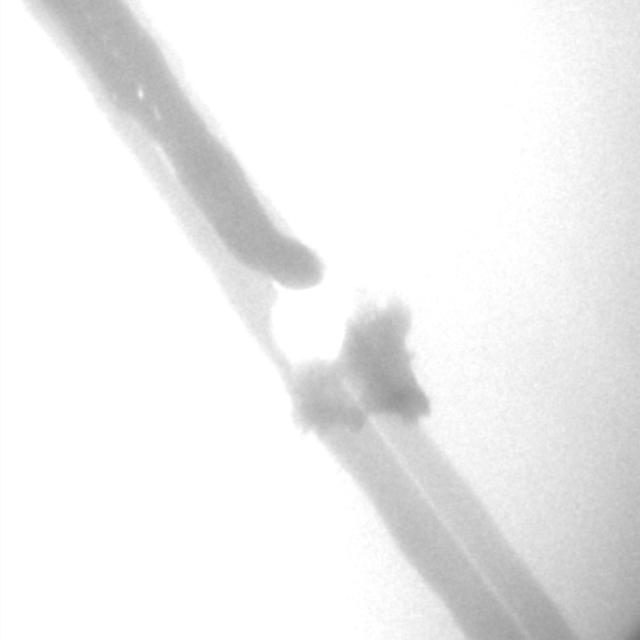air hole: (136, 87, 144, 99)
broken arc: (152, 139, 529, 636)
